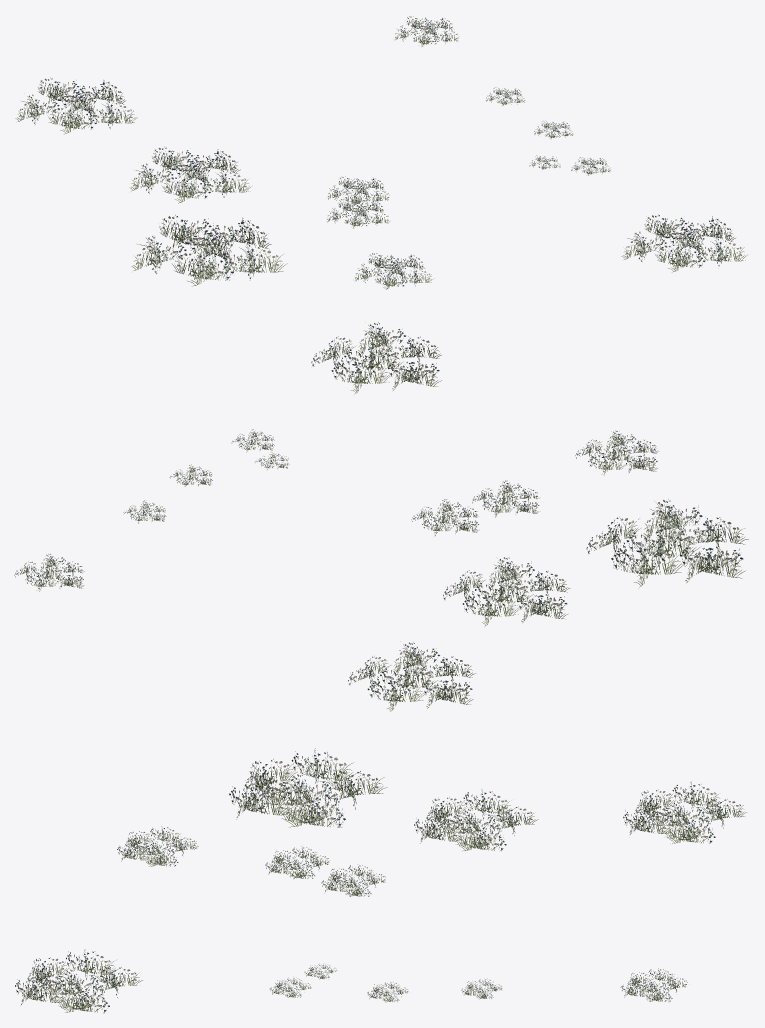
File: Grass.glb
3 renders of one model, top to bottom at view 1: azimuth 30°, elevation 25°; view 2: azimuth 150°, elevation 25°; view 3: azimuth 270°, elevation 25°, orthographic. The views are drawn at different scales.
Parts seen in each view (by area): view 1: Grass_Reeds_LOD0_GrassBase_0.006, Grass_Reeds_LOD0_GrassBase_0.011, Grass_Reeds_LOD0_GrassBase_0.002, Grass_Reeds_LOD0_GrassBase_0.004, Grass_Reeds_LOD0_GrassBase_0.010, Grass_Reeds_LOD0_GrassBase_0.009, Grass_Reeds_LOD0_GrassBase_0.013, Grass_Reeds_LOD0_GrassBase_0.012; view 2: Grass_Reeds_LOD0_GrassBase_0.006, Grass_Reeds_LOD0_GrassBase_0.011, Grass_Reeds_LOD0_GrassBase_0.004, Grass_Reeds_LOD0_GrassBase_0.002, Grass_Reeds_LOD0_GrassBase_0.010, Grass_Reeds_LOD0_GrassBase_0.009, Grass_Reeds_LOD0_GrassBase_0.012, Grass_Reeds_LOD0_GrassBase_0.013; view 3: Grass_Reeds_LOD0_GrassBase_0.006, Grass_Reeds_LOD0_GrassBase_0.011, Grass_Reeds_LOD0_GrassBase_0.004, Grass_Reeds_LOD0_GrassBase_0.002, Grass_Reeds_LOD0_GrassBase_0.010, Grass_Reeds_LOD0_GrassBase_0.009, Grass_Reeds_LOD0_GrassBase_0.013, Grass_Reeds_LOD0_GrassBase_0.012.
Boxes of the visible parts, bbox=[...] form: Grass_Reeds_LOD0_GrassBase_0.006: bbox=[131, 215, 287, 286]; Grass_Reeds_LOD0_GrassBase_0.011: bbox=[621, 214, 747, 272]; Grass_Reeds_LOD0_GrassBase_0.002: bbox=[15, 77, 137, 134]; Grass_Reeds_LOD0_GrassBase_0.004: bbox=[129, 146, 250, 203]; Grass_Reeds_LOD0_GrassBase_0.010: bbox=[355, 253, 434, 289]; Grass_Reeds_LOD0_GrassBase_0.009: bbox=[395, 16, 458, 46]; Grass_Reeds_LOD0_GrassBase_0.013: bbox=[328, 176, 389, 204]; Grass_Reeds_LOD0_GrassBase_0.012: bbox=[327, 199, 389, 228]; Grass_Reeds_LOD0_GrassBase_0.006: bbox=[586, 499, 748, 587]; Grass_Reeds_LOD0_GrassBase_0.011: bbox=[311, 322, 441, 393]; Grass_Reeds_LOD0_GrassBase_0.004: bbox=[443, 557, 570, 625]; Grass_Reeds_LOD0_GrassBase_0.002: bbox=[348, 642, 475, 711]; Grass_Reeds_LOD0_GrassBase_0.010: bbox=[575, 430, 657, 475]; Grass_Reeds_LOD0_GrassBase_0.009: bbox=[14, 554, 84, 591]; Grass_Reeds_LOD0_GrassBase_0.012: bbox=[472, 480, 539, 517]; Grass_Reeds_LOD0_GrassBase_0.013: bbox=[411, 499, 478, 535]; Grass_Reeds_LOD0_GrassBase_0.006: bbox=[229, 748, 387, 827]; Grass_Reeds_LOD0_GrassBase_0.011: bbox=[15, 949, 142, 1013]; Grass_Reeds_LOD0_GrassBase_0.004: bbox=[414, 789, 538, 851]; Grass_Reeds_LOD0_GrassBase_0.002: bbox=[623, 782, 746, 843]; Grass_Reeds_LOD0_GrassBase_0.010: bbox=[117, 826, 198, 866]; Grass_Reeds_LOD0_GrassBase_0.009: bbox=[620, 968, 687, 1001]; Grass_Reeds_LOD0_GrassBase_0.013: bbox=[321, 865, 385, 896]; Grass_Reeds_LOD0_GrassBase_0.012: bbox=[265, 846, 329, 878].
Size of the model in its own units: 244 by 14.39 by 304.
1 material, 1 textured.
